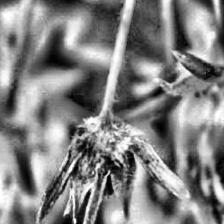Gray Mold: (37, 103, 190, 224)
